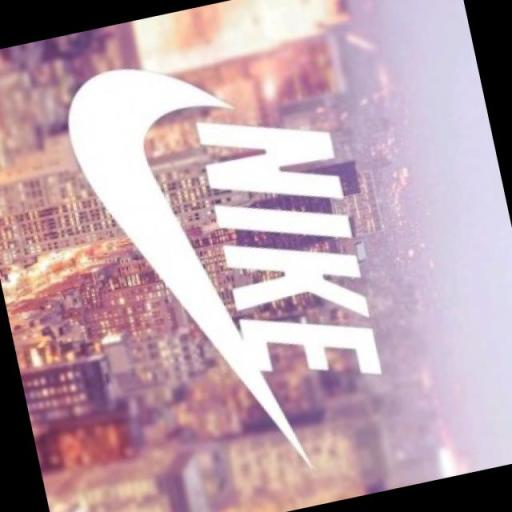Nike: (48, 41, 318, 507), (186, 90, 386, 409)
